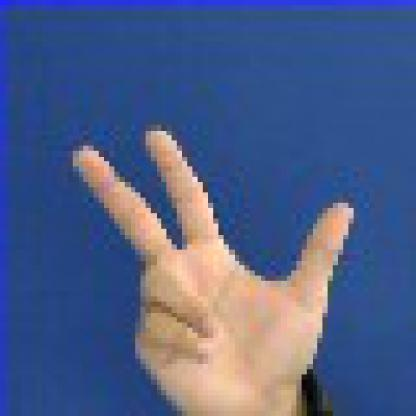eight: (46, 104, 380, 411)
